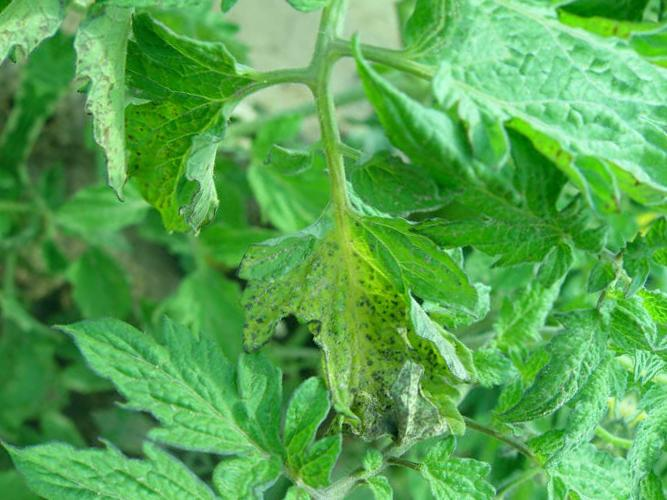Tomato leaf bacterial spot: (189, 149, 562, 495), (29, 253, 391, 500), (3, 0, 309, 286)
